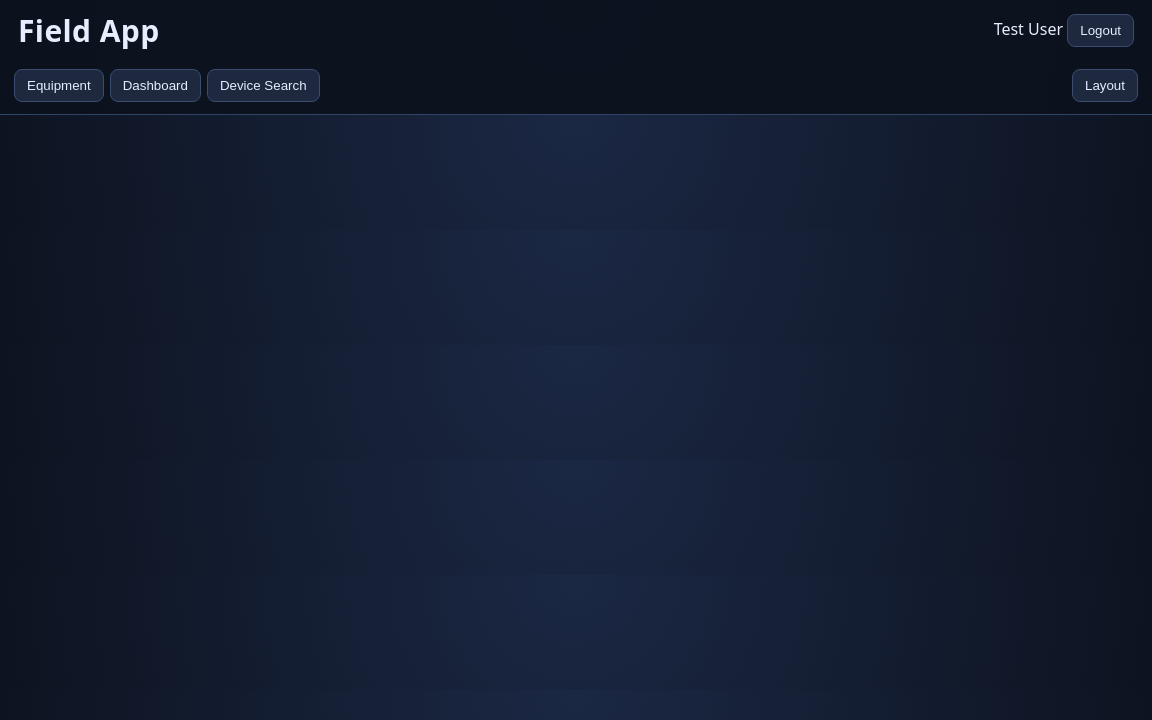
Test case: NavBar › closes dropdown immediately after selecting a dropdown item
The width and height of the screenshot is (1152, 720).
Hover over the text "Equipment" at (59, 86), box x1=14 y1=69 x2=104 y2=102
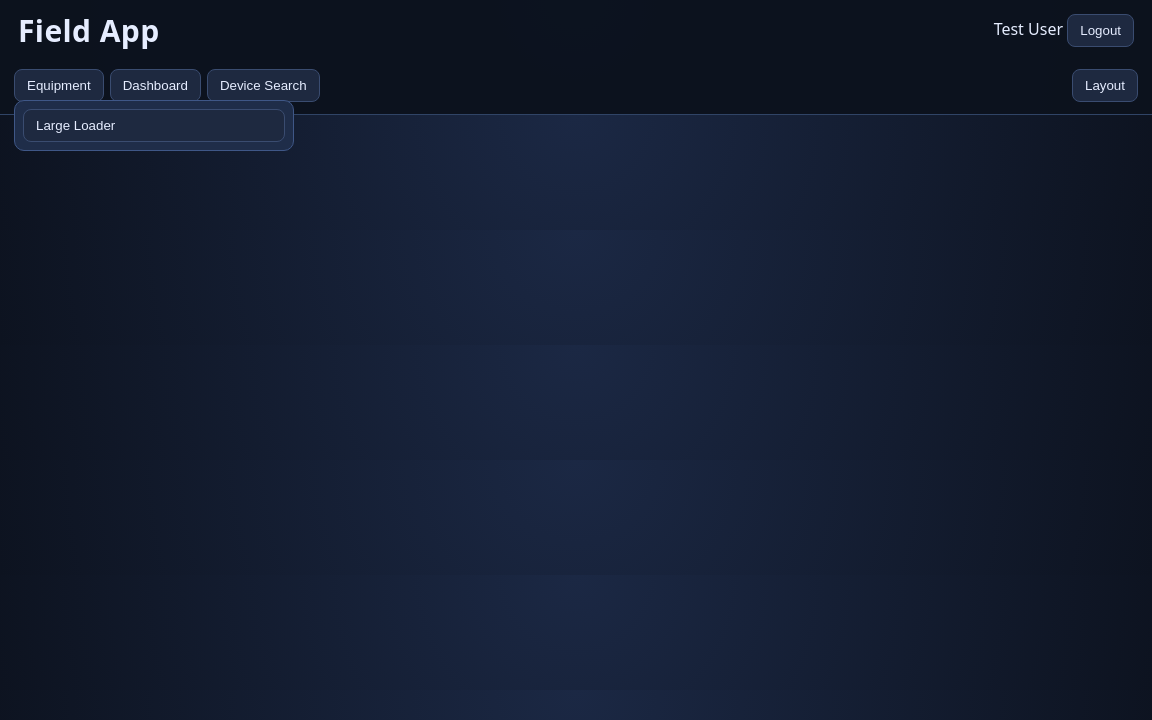
Click the button "Large Loader" at (76, 126), box x1=23 y1=109 x2=285 y2=142
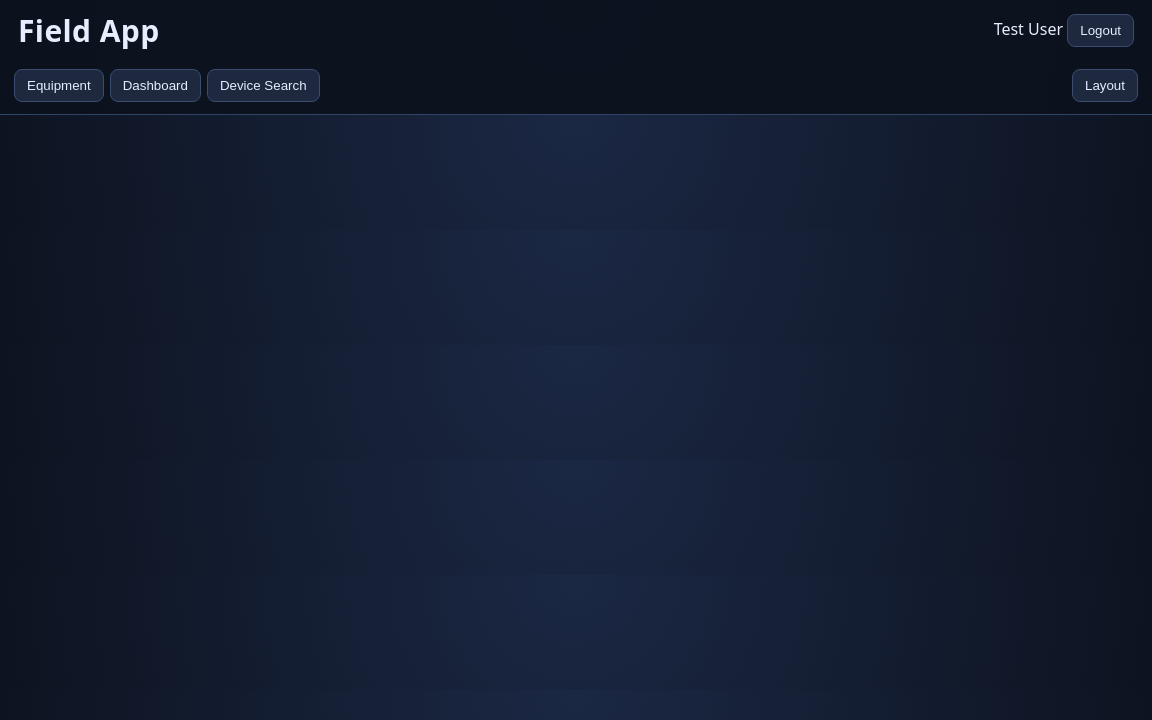
Now the button "Large Loader" is gone
